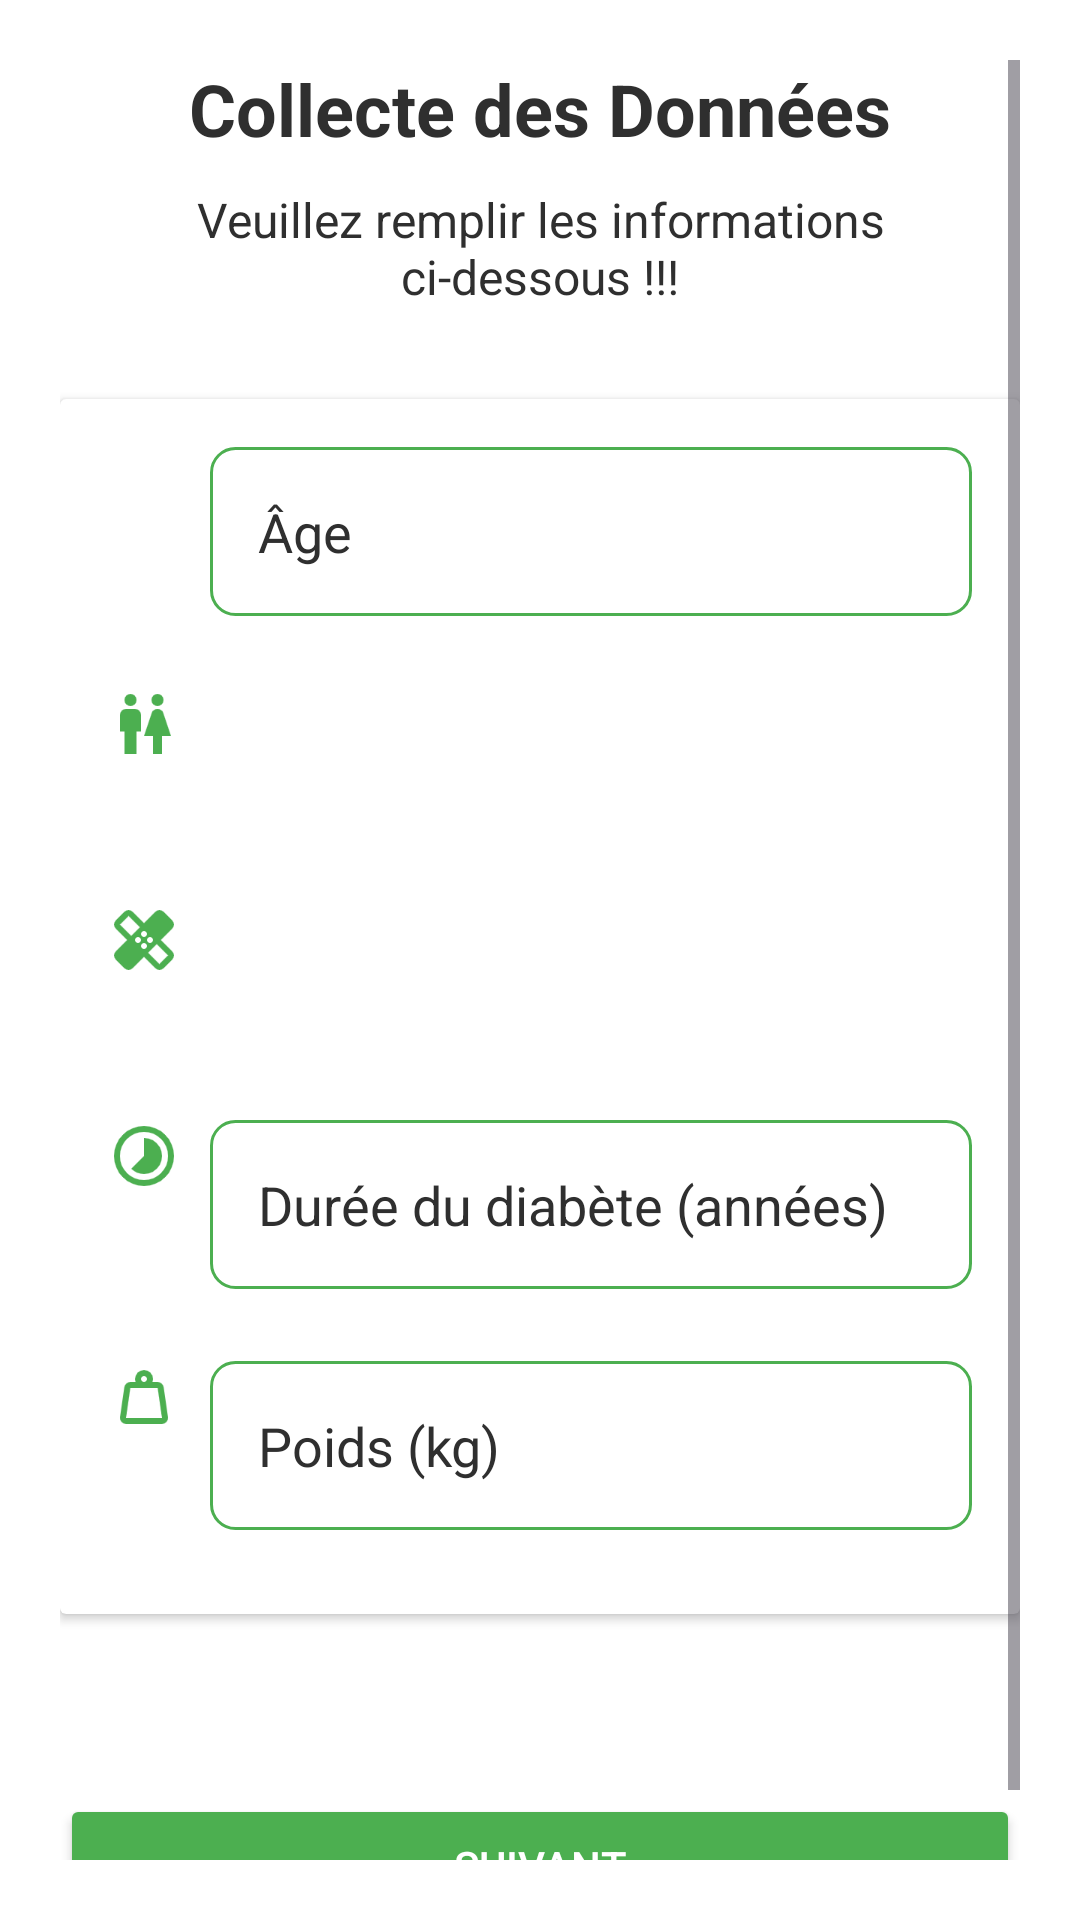

Named icons in this screenshot (1080px×1920px) and their bounding boxes, (x1, y1, x2, y2):
gender: (120, 694, 171, 754)
time: (114, 1126, 174, 1186)
weight: (120, 1370, 168, 1424)
